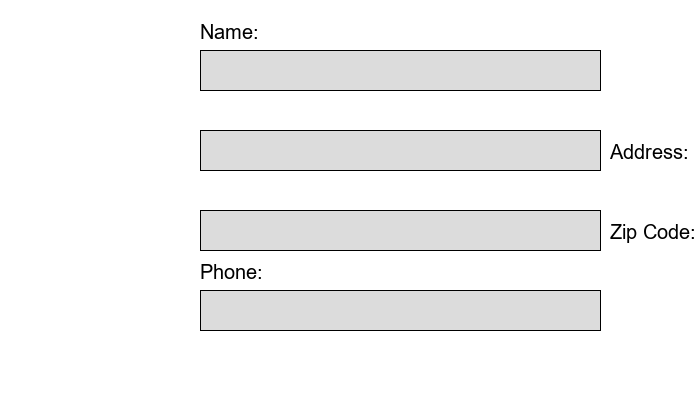Label: (610, 220, 690, 239), (610, 140, 684, 155), (200, 260, 257, 275), (200, 20, 253, 35)
Textbox: (200, 50, 600, 90), (200, 130, 600, 170), (200, 210, 600, 250), (200, 290, 600, 330)
